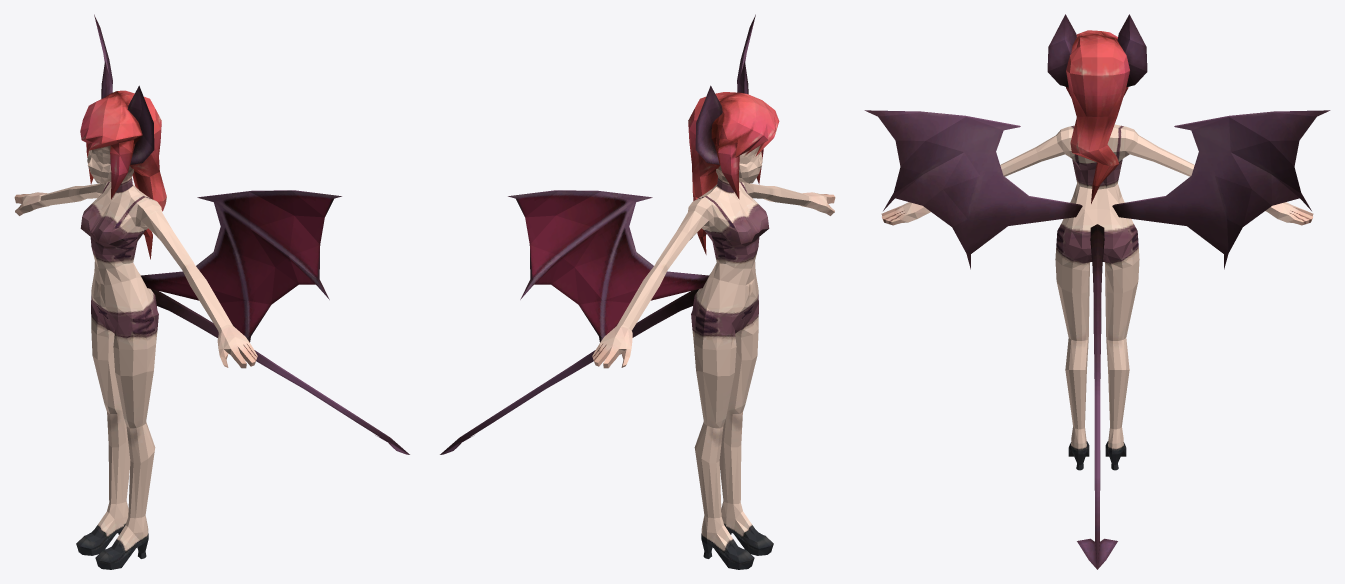
File: Bat.obj
The picture shows the model from 3 angles, left to right: view 1: azimuth 30°, elevation 25°; view 2: azimuth 150°, elevation 25°; view 3: azimuth 270°, elevation 25°; orthographic projection. The views are drawn at different scales.
Parts seen in each view (by area): view 1: Bat_nude_tri; view 2: Bat_nude_tri; view 3: Bat_nude_tri.
Boxes of the visible parts, box(x1,y1,x2,y2) form: Bat_nude_tri: box(14, 14, 409, 569); Bat_nude_tri: box(440, 14, 835, 569); Bat_nude_tri: box(864, 14, 1330, 569).
Size of the model in its own units: 1.28 by 1.77 by 1.67.
1 material, 1 textured.
